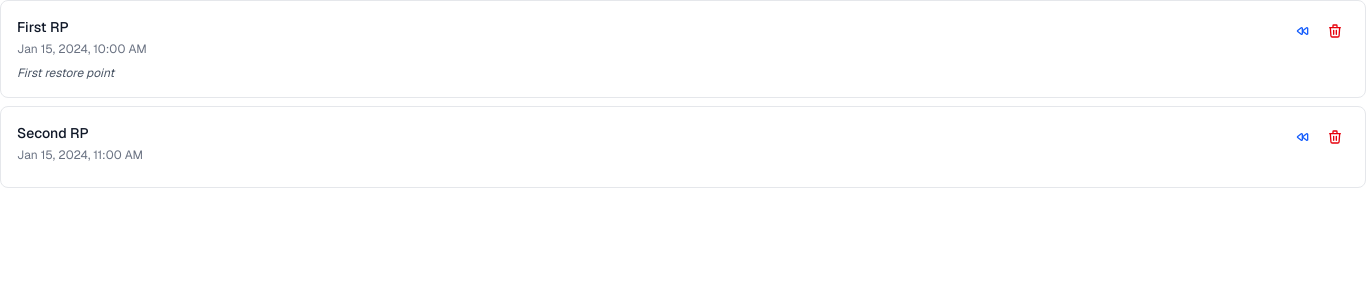
Test: RestorePointList Component › should show delete confirmation
Step 1. Click the button titled "delete this restore point" in the row of "Jan 15, 2024, 10:00 AM" → (1335, 31), box 1321,17 -> 1349,45
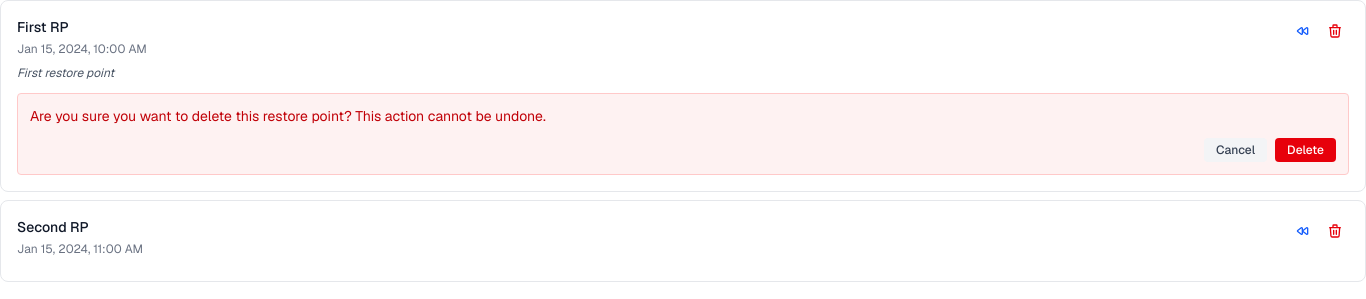
Check: the text "Are you sure you want to delete" is shown, box 30,107 -> 546,125
